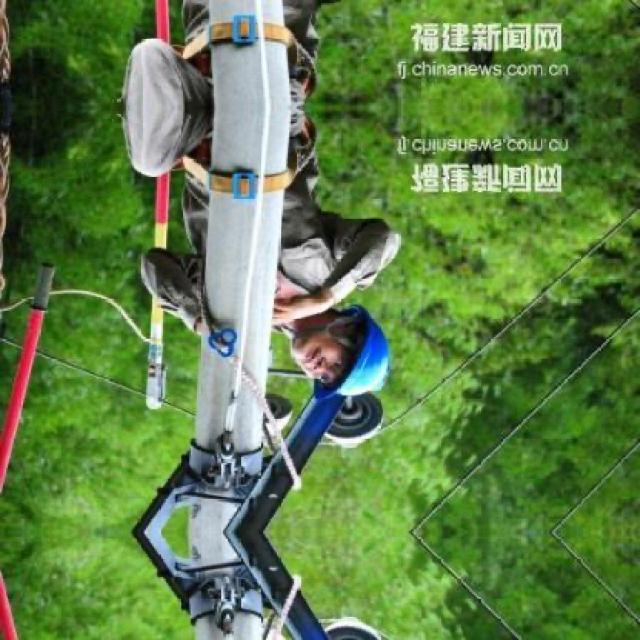con casco: (266, 326, 366, 428)
